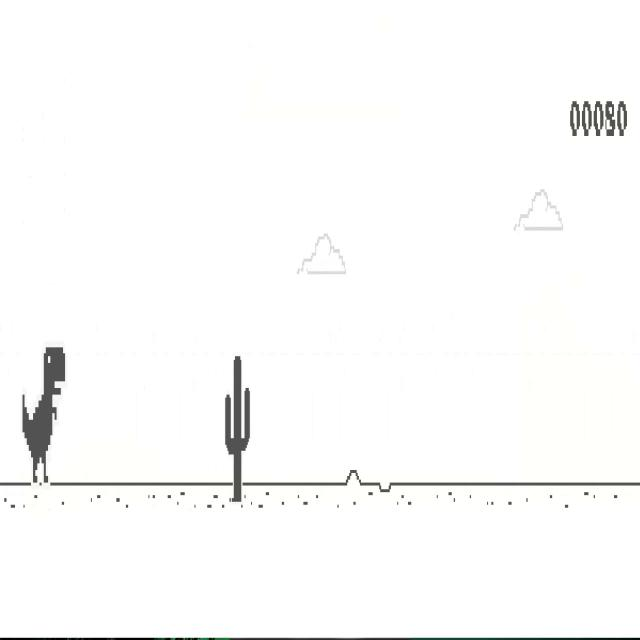cacto: (224, 354, 250, 503)
dino: (21, 346, 66, 484)
